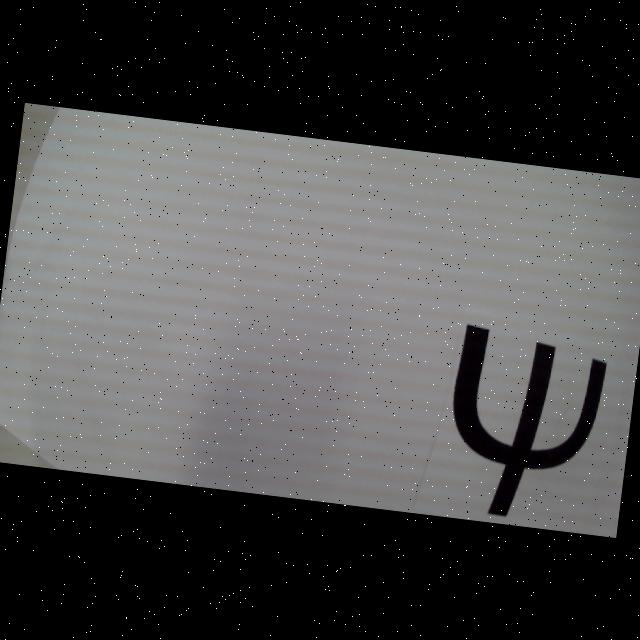PSI: (437, 323, 610, 528)
